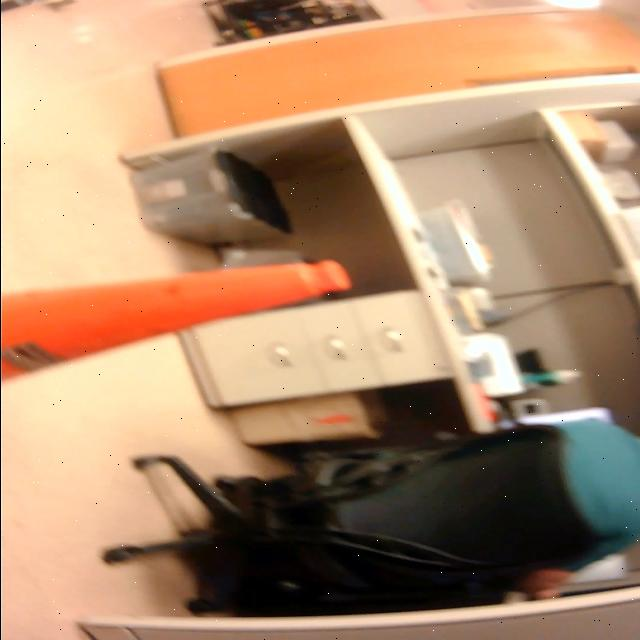traffic cone: (1, 254, 366, 394)
